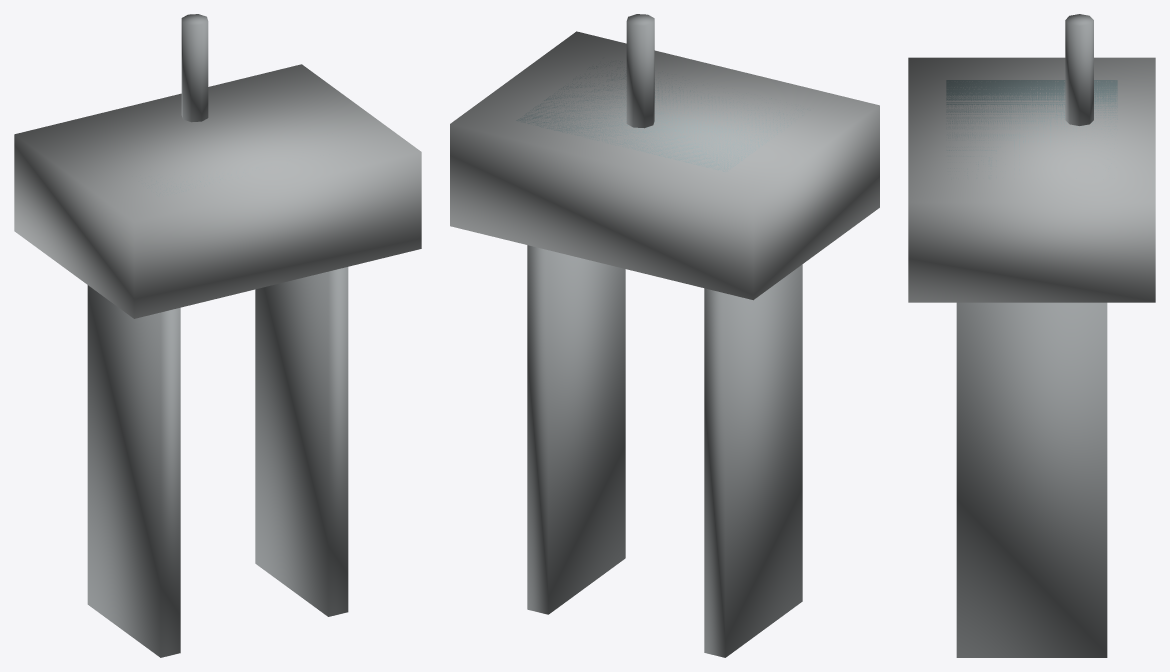
The model's file is bar_sink__tall.glb.
3 renders of one model, left to right at view 1: azimuth 30°, elevation 25°; view 2: azimuth 150°, elevation 25°; view 3: azimuth 270°, elevation 25°, orthographic. The views are drawn at different scales.
Parts seen in each view (by area): view 1: world; view 2: world; view 3: world.
Boxes of the visible parts, x1=… form: world: x1=14, y1=14, x2=421, y2=657; world: x1=450, y1=14, x2=879, y2=657; world: x1=908, y1=14, x2=1155, y2=657.
Bounding box in the file's own units: 0.72 × 1.37 × 0.52.
